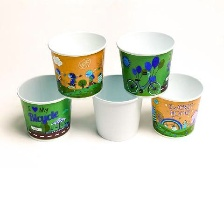paper_cup: (113, 27, 178, 100), (44, 28, 108, 99), (14, 70, 77, 141), (144, 70, 204, 139), (89, 72, 145, 144)
